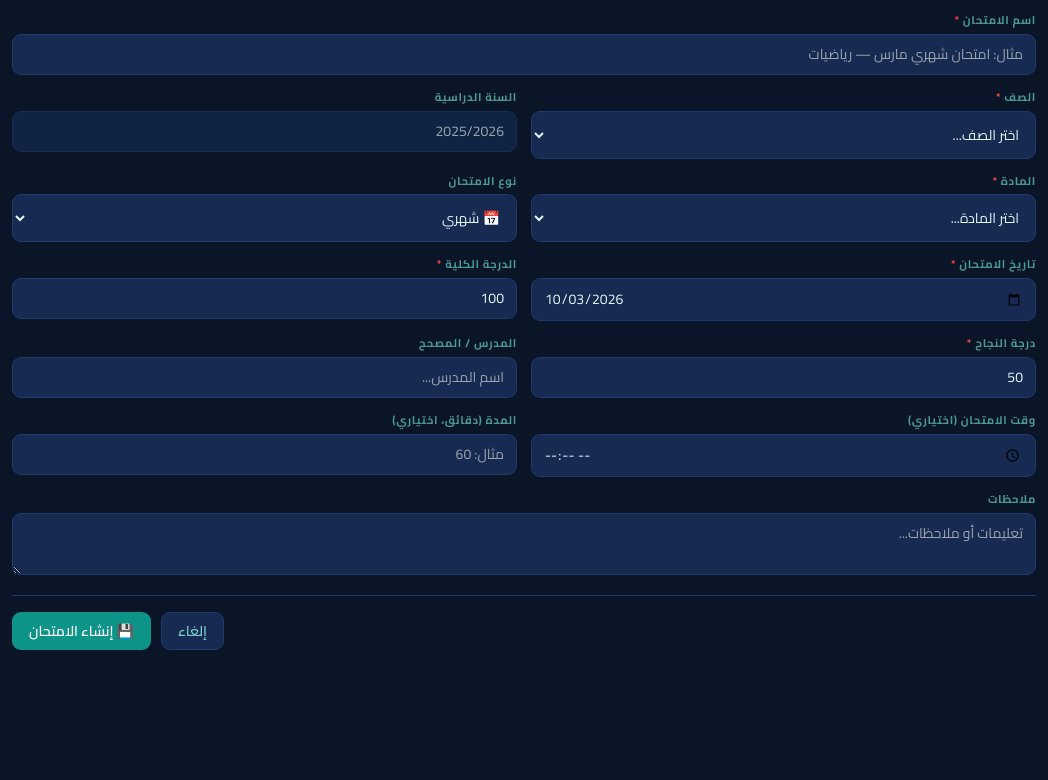
it: ExamForm — scheduling fields (Exams Phase 3C) › shows the computed end time once both scheduledTime and durationMinutes are filled
Type "09:00" into the time field named "scheduledTime" at (784, 455), box left=531, top=434, right=1036, bottom=477
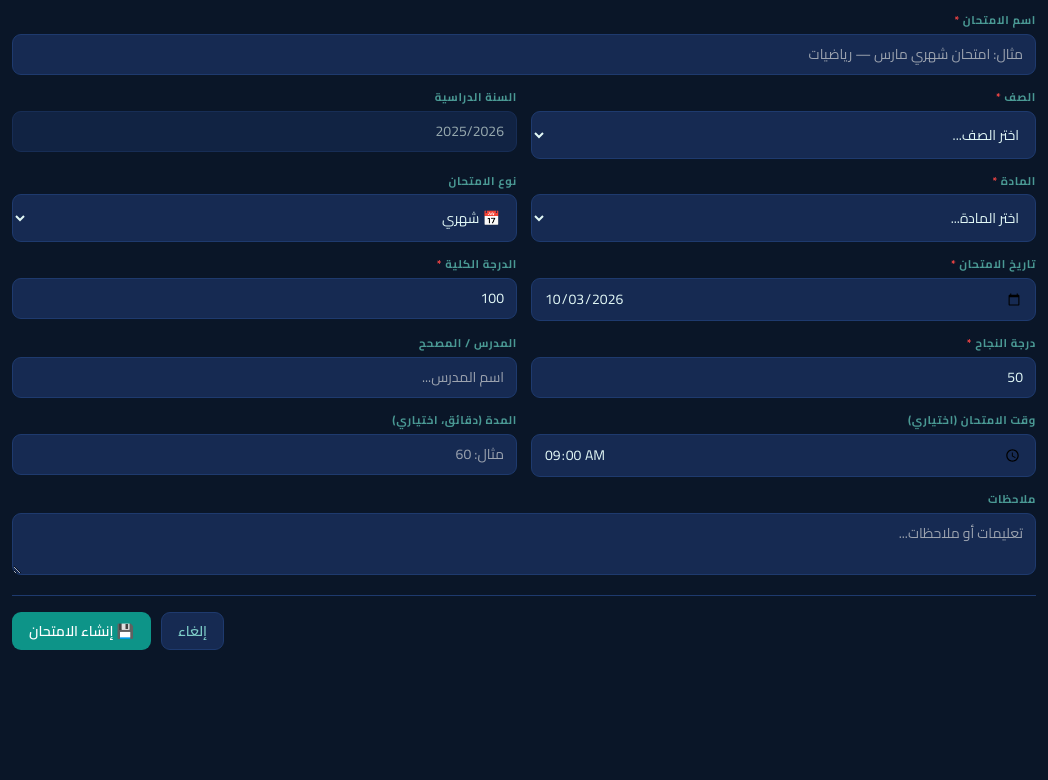
Type "60" into the number field named "durationMinutes" at (264, 454), box left=12, top=434, right=517, bottom=475
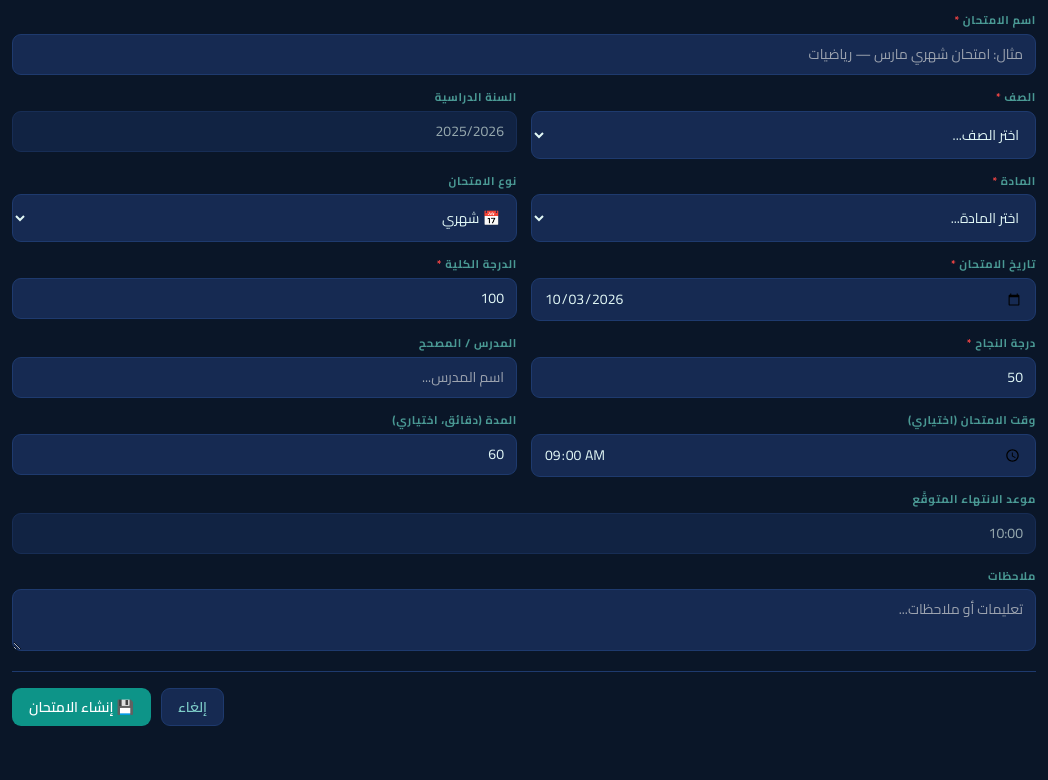
expect the text "موعد الانتهاء المتوقَّع" is shown: met, box left=912, top=488, right=1036, bottom=509
expect the field named "endTimeDisplay" below "موعد الانتهاء المتوقَّع" holds "10:00": met, box left=12, top=513, right=1036, bottom=554
